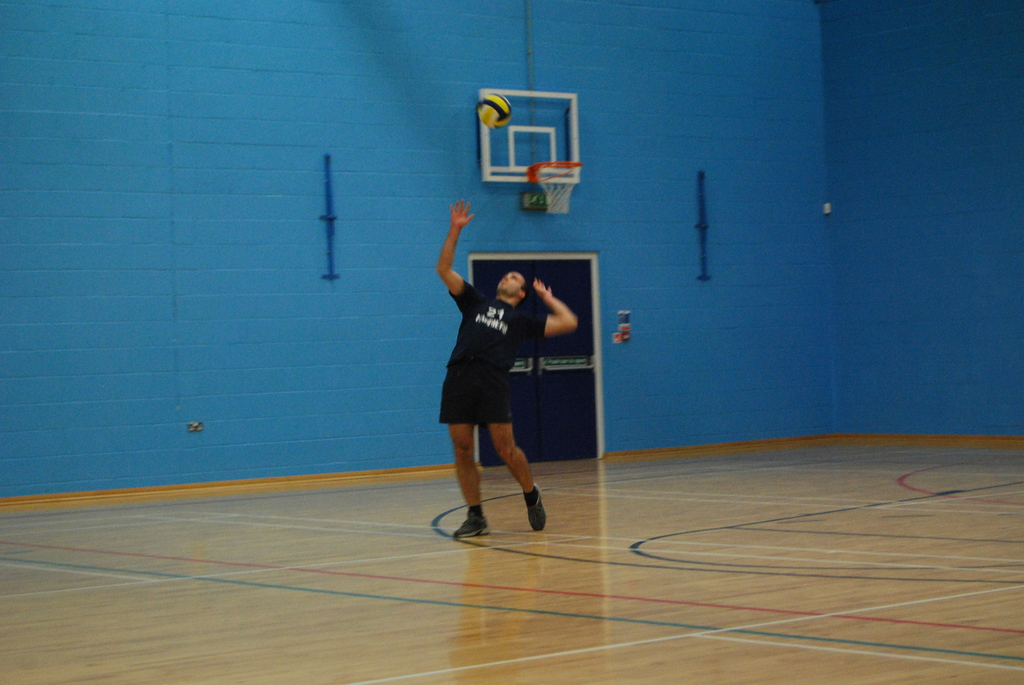Person: (436, 198, 578, 537)
